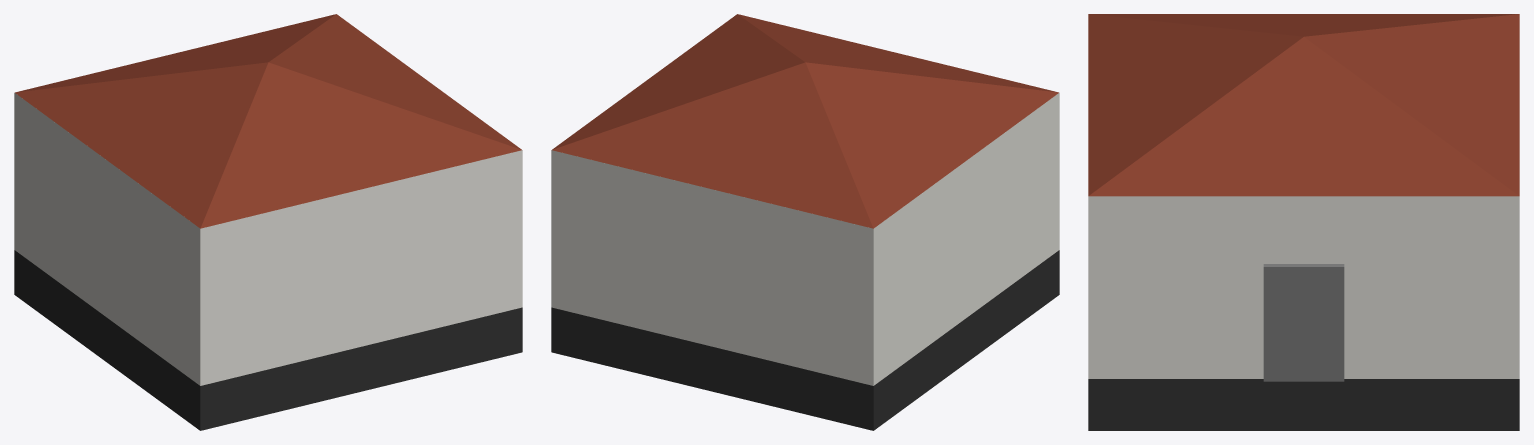
Rendered from house_2.DUJcj8RO.glb.
The picture shows the model from 3 angles, left to right: view 1: azimuth 30°, elevation 25°; view 2: azimuth 150°, elevation 25°; view 3: azimuth 270°, elevation 25°; orthographic projection. The views are drawn at different scales.
Visible parts, largest first — view 1: base, roof; view 2: base, roof; view 3: base, roof, door.
Part boxes in pixels (left/top/right/bottom): base: left=14, top=93, right=522, bottom=430; roof: left=15, top=14, right=521, bottom=228; base: left=551, top=93, right=1059, bottom=430; roof: left=552, top=14, right=1058, bottom=228; base: left=1088, top=196, right=1519, bottom=430; roof: left=1088, top=14, right=1519, bottom=196; door: left=1263, top=264, right=1344, bottom=381.
Size of the model in its own units: 0.7619 by 0.5813 by 0.75.
